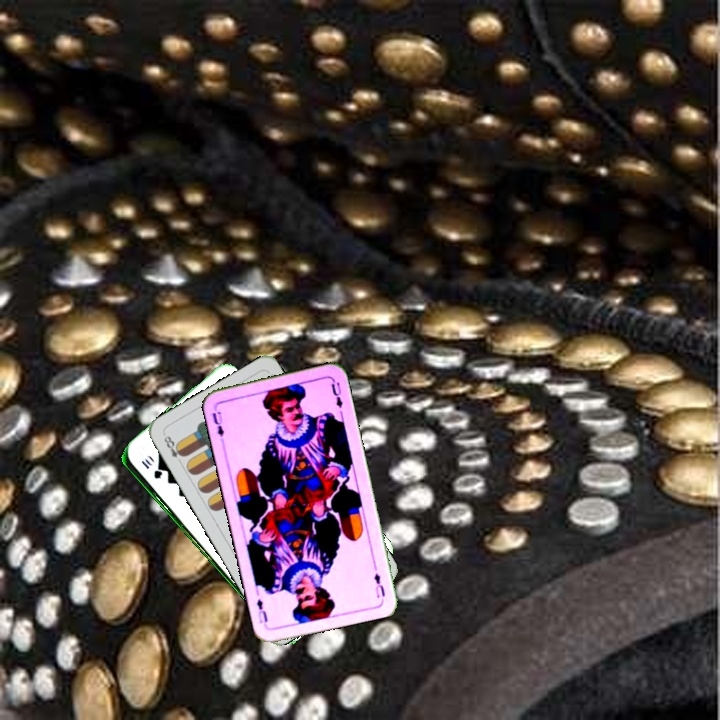E8: (160, 430, 187, 467)
EU: (208, 404, 228, 444), (370, 569, 387, 600)
G10: (137, 456, 163, 482)
